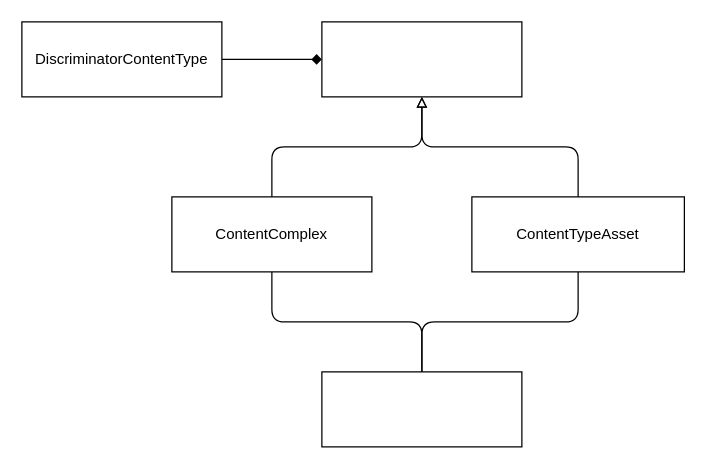
The diagram is 706 pixels wide and 469 high, and some of its shapes have lost their labels. Here are the shapes that lost their labels. From the top down, the centre of each, then its label:
At pixel 421 59: "ContentCommon".
At pixel 421 409: "ContentType".
